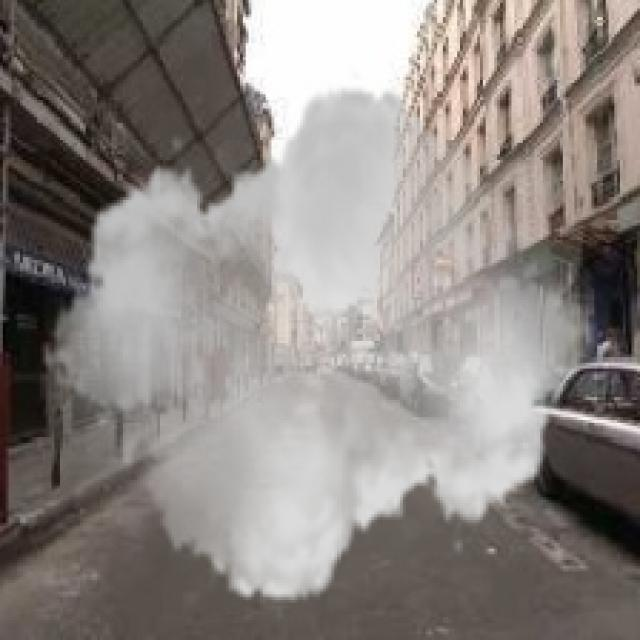smoke: (40, 66, 594, 623)
